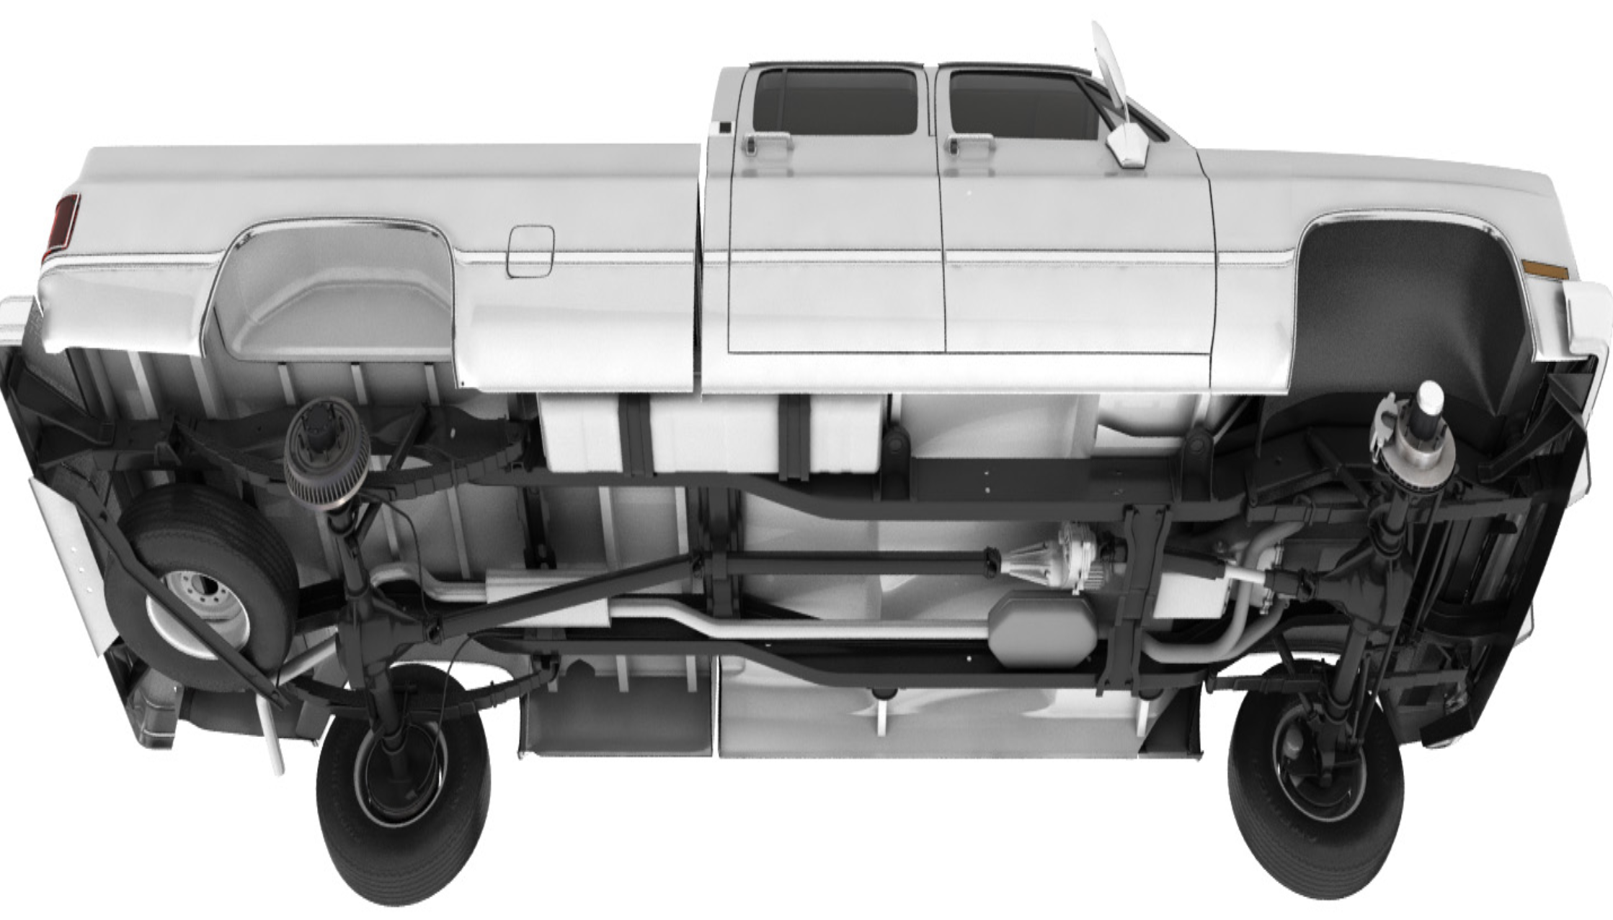hatch: (495, 216, 566, 292)
